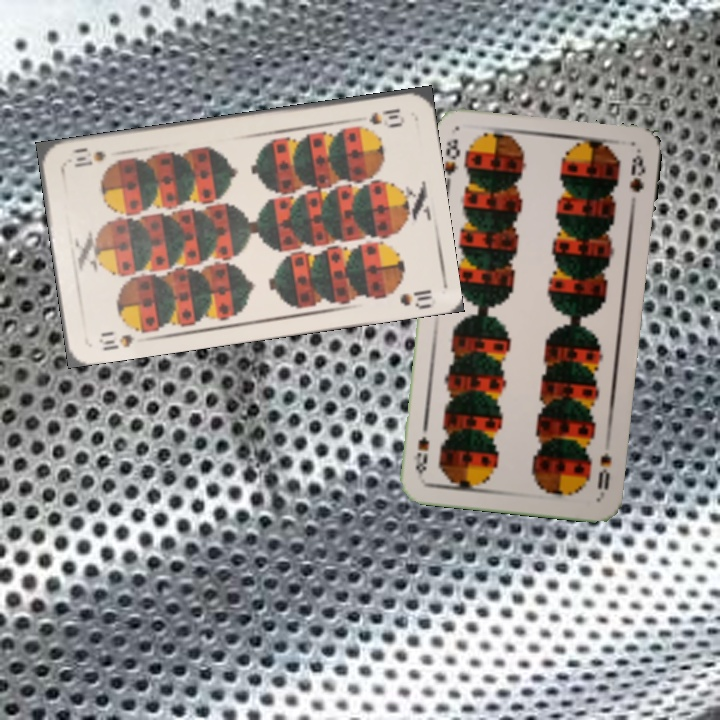S10: (94, 327, 136, 354), (365, 104, 403, 128)
S8: (440, 134, 463, 189), (593, 449, 614, 497)
